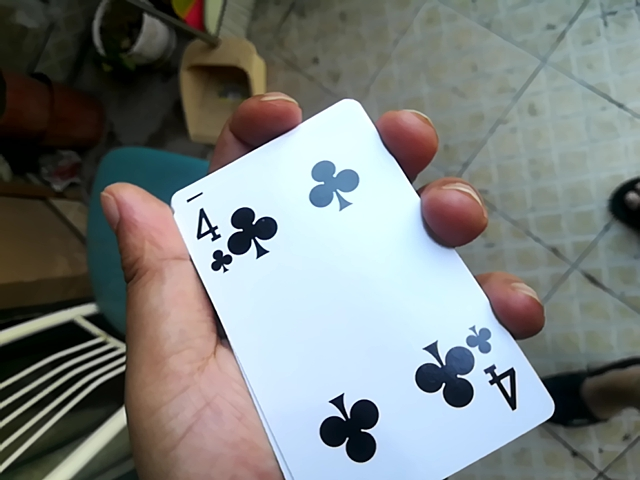mh 4: (151, 92, 537, 480)
